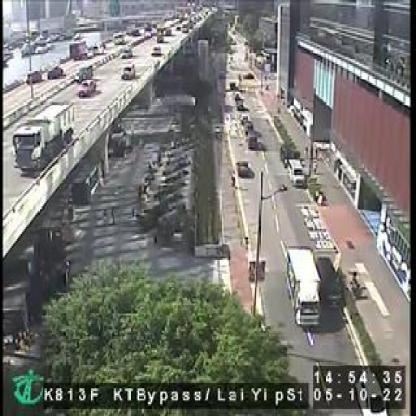Car: (316, 255, 339, 308), (286, 158, 304, 187), (75, 78, 95, 94), (279, 144, 294, 165), (74, 64, 91, 82), (244, 134, 259, 149), (236, 158, 249, 175), (119, 62, 132, 78), (240, 114, 250, 125), (120, 47, 130, 57), (243, 121, 252, 132), (152, 45, 161, 54)
Truck: (13, 102, 73, 175), (284, 246, 318, 329)
